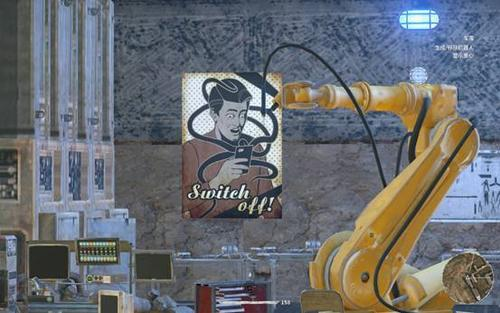bill: (182, 73, 281, 218)
